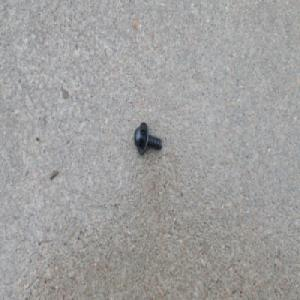BoltWasher: (133, 121, 161, 156)
